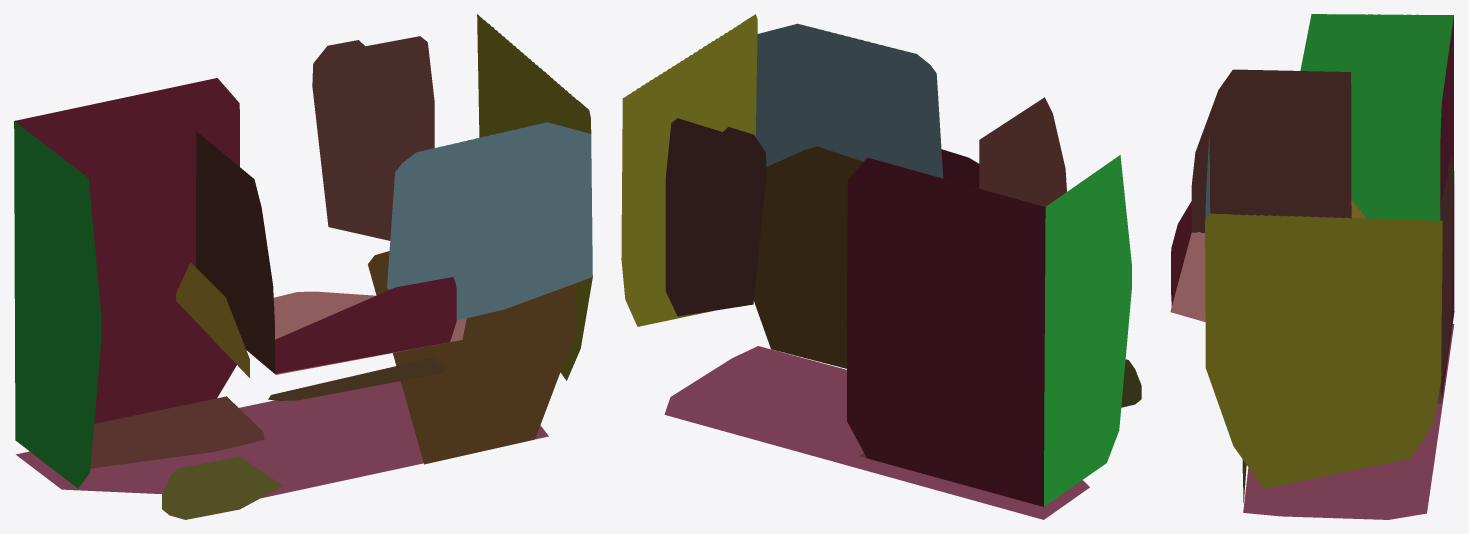
Rendered from PlanarRecon-31a2c91c43.glb.
3 renders of one model, left to right at view 1: azimuth 30°, elevation 25°; view 2: azimuth 150°, elevation 25°; view 3: azimuth 270°, elevation 25°, orthographic. The views are drawn at different scales.
Visible parts, largest first — view 1: lean; view 2: lean; view 3: lean.
Part boxes in pixels (x1=…): lean: x1=14, y1=14, x2=592, y2=519; lean: x1=621, y1=14, x2=1141, y2=519; lean: x1=1170, y1=14, x2=1454, y2=519.
Bounding box in the file's own units: 2.56 × 1.78 × 1.48.
